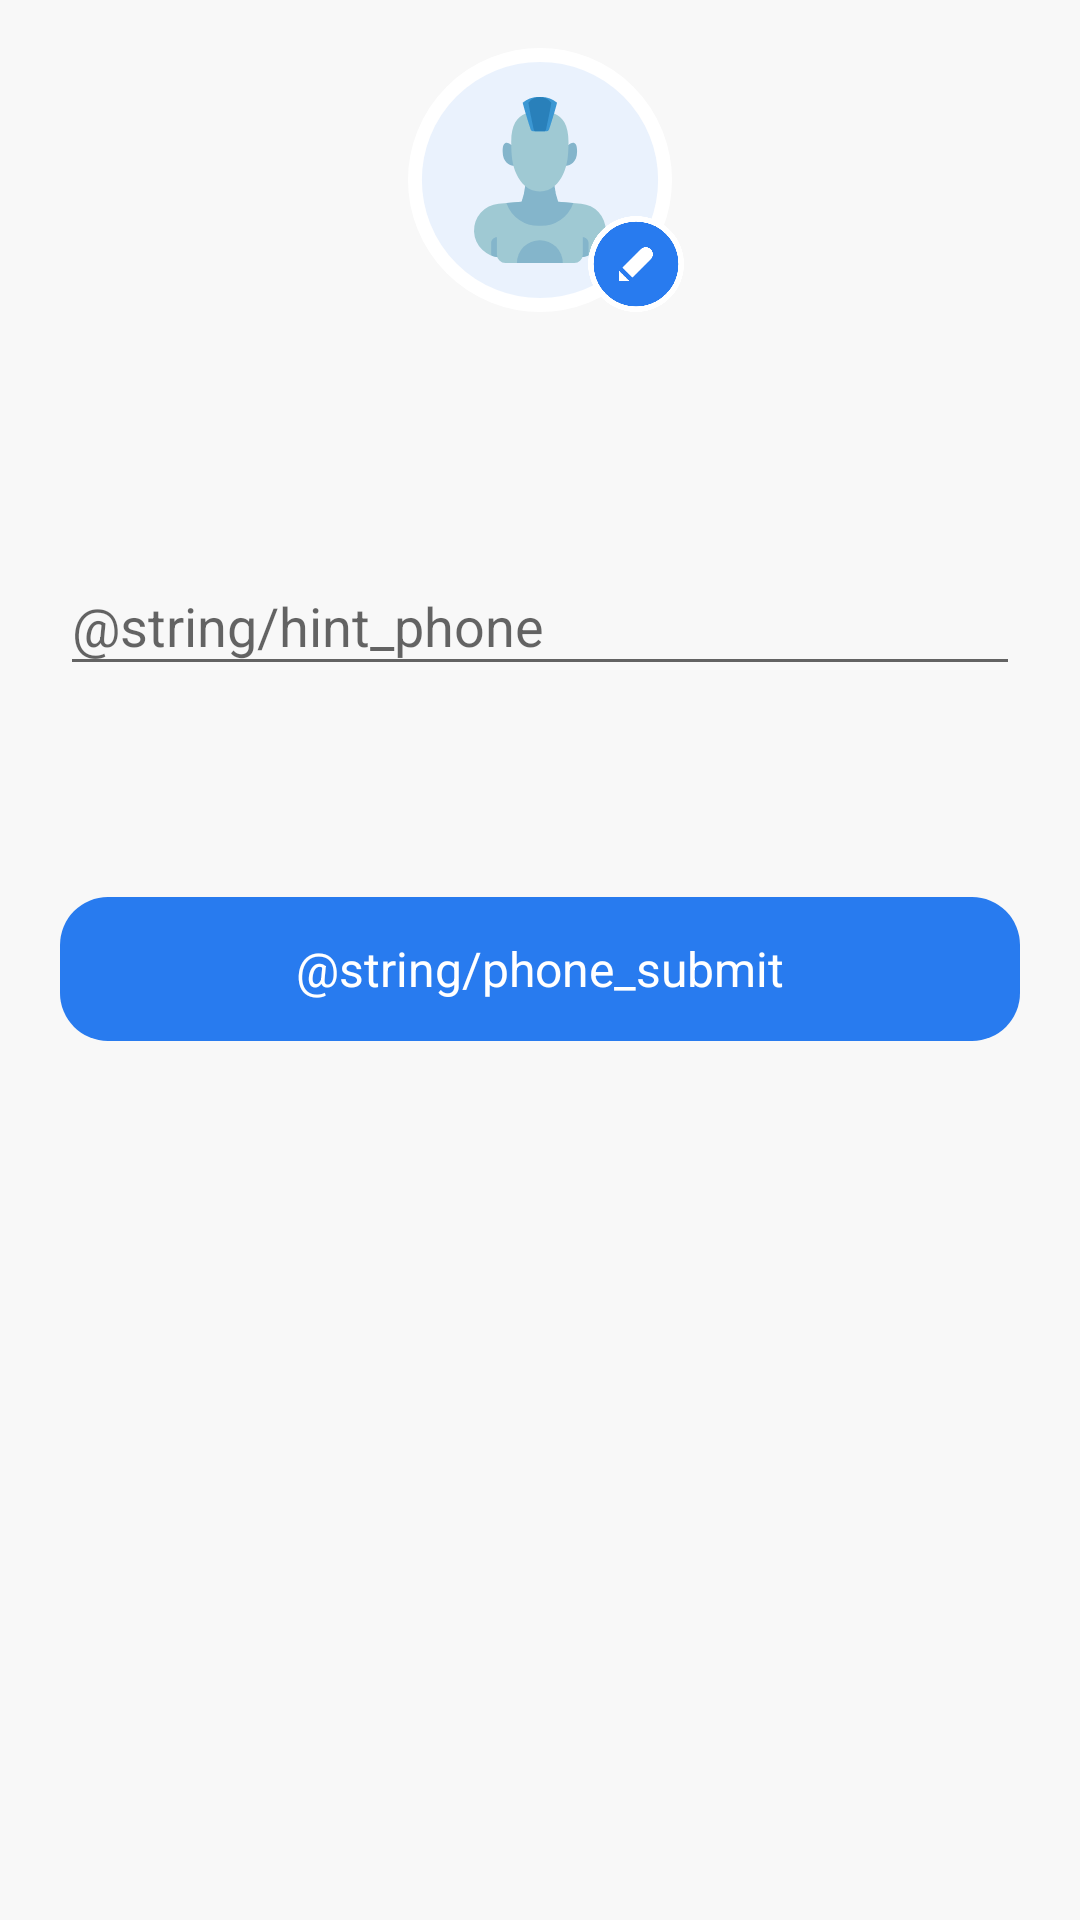

Screen size 1080×1920. Icon name, then its center in pixels as (x,y):
edit: (636,264)
